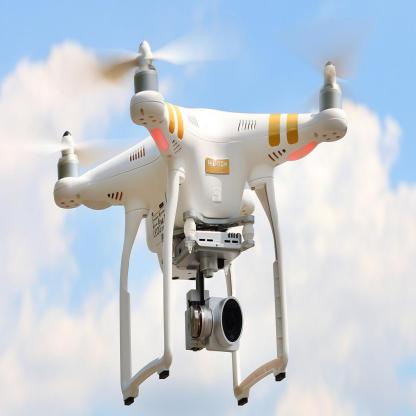drone: (40, 32, 376, 314)
